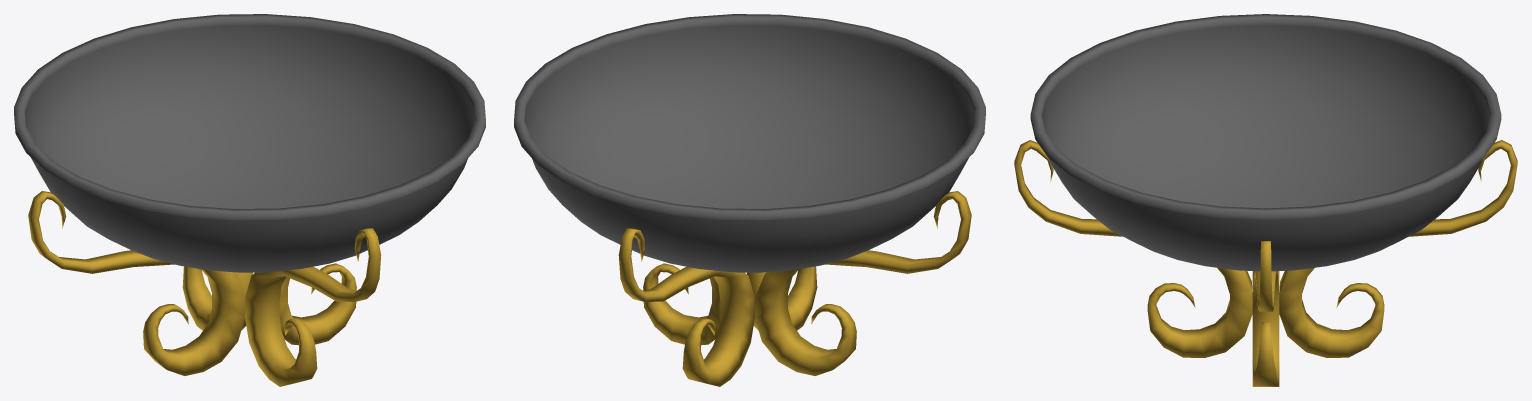
The model's file is braizer.fbx.
3 views of the same model, side by side, from view 1: azimuth 30°, elevation 25°; view 2: azimuth 150°, elevation 25°; view 3: azimuth 270°, elevation 25° (orthographic).
Visible parts, largest first — view 1: braizer; view 2: braizer; view 3: braizer.
Part boxes in pixels (left/top/right/bottom): braizer: left=14, top=14, right=485, bottom=386; braizer: left=514, top=14, right=985, bottom=386; braizer: left=1014, top=14, right=1517, bottom=386.
Bounding box in the file's own units: 520 × 272 × 520.
